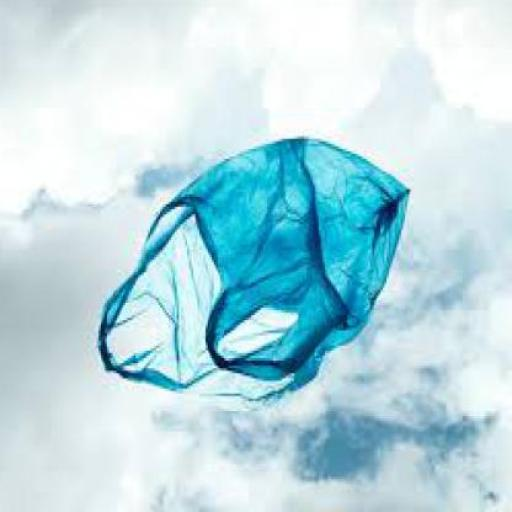plastic: (101, 141, 413, 412)
